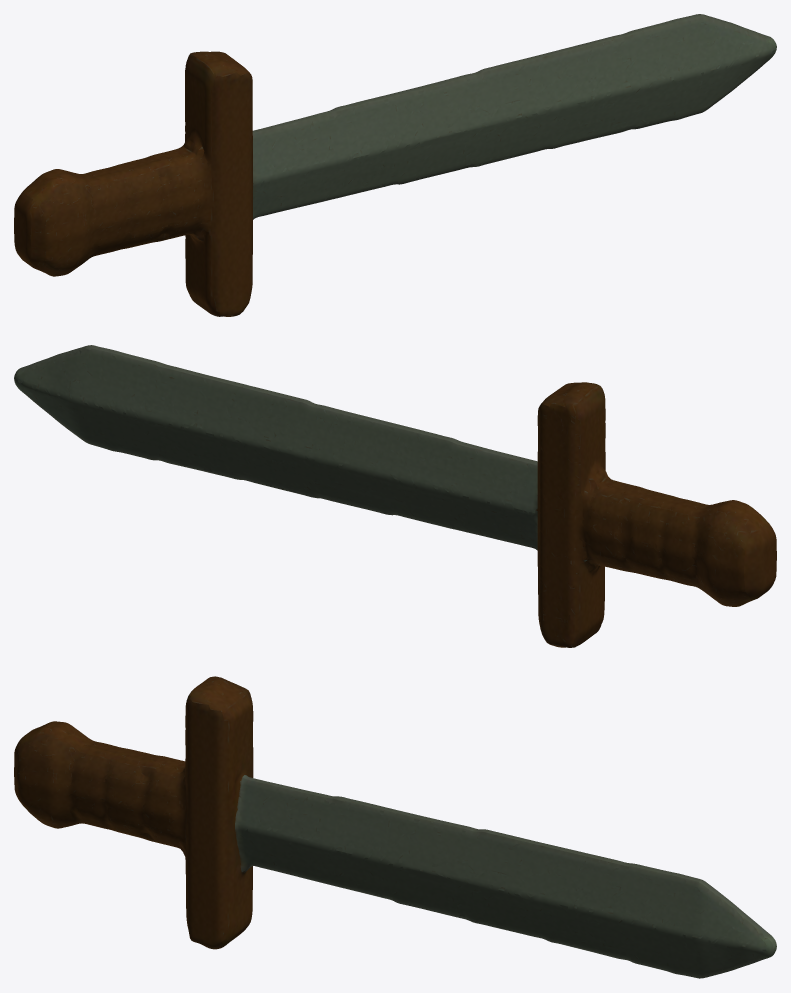
The model's file is item_sword_knight.glb.
3 renders of one model, top to bottom at view 1: azimuth 30°, elevation 25°; view 2: azimuth 150°, elevation 25°; view 3: azimuth 330°, elevation 25°, orthographic.
Parts seen in each view (by area): view 1: tmpt045zfjg.ply; view 2: tmpt045zfjg.ply; view 3: tmpt045zfjg.ply.
Boxes of the visible parts, left/top/right/bottom form: tmpt045zfjg.ply: left=14, top=14, right=776, bottom=316; tmpt045zfjg.ply: left=14, top=345, right=776, bottom=647; tmpt045zfjg.ply: left=14, top=676, right=776, bottom=978.
Size of the model in its own units: 2.94 by 0.9534 by 0.2223.
Materials: 1 (1 with a texture image).
